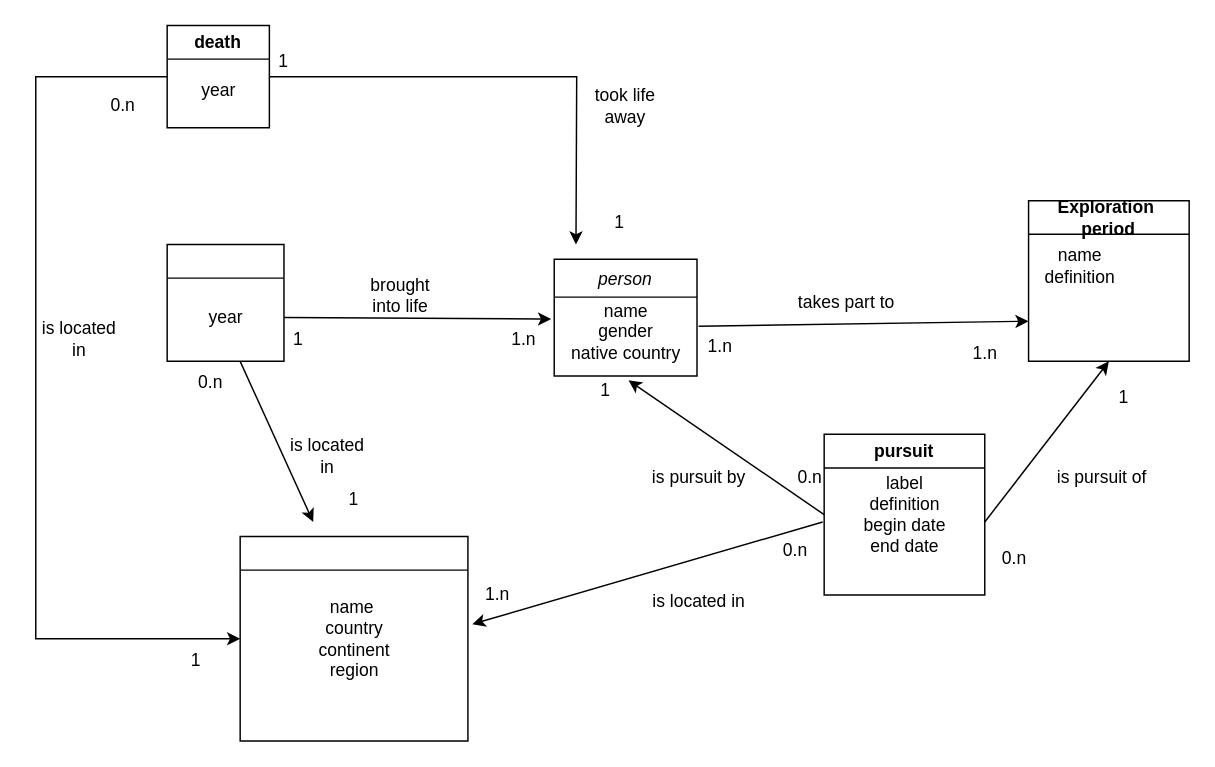
Some shapes in this 1215 by 767 pixel diagram are drawn without their labels. Each missing label, with the box of its shape:
Birth: (166, 243, 284, 361)
Geographical place: (239, 535, 468, 741)
